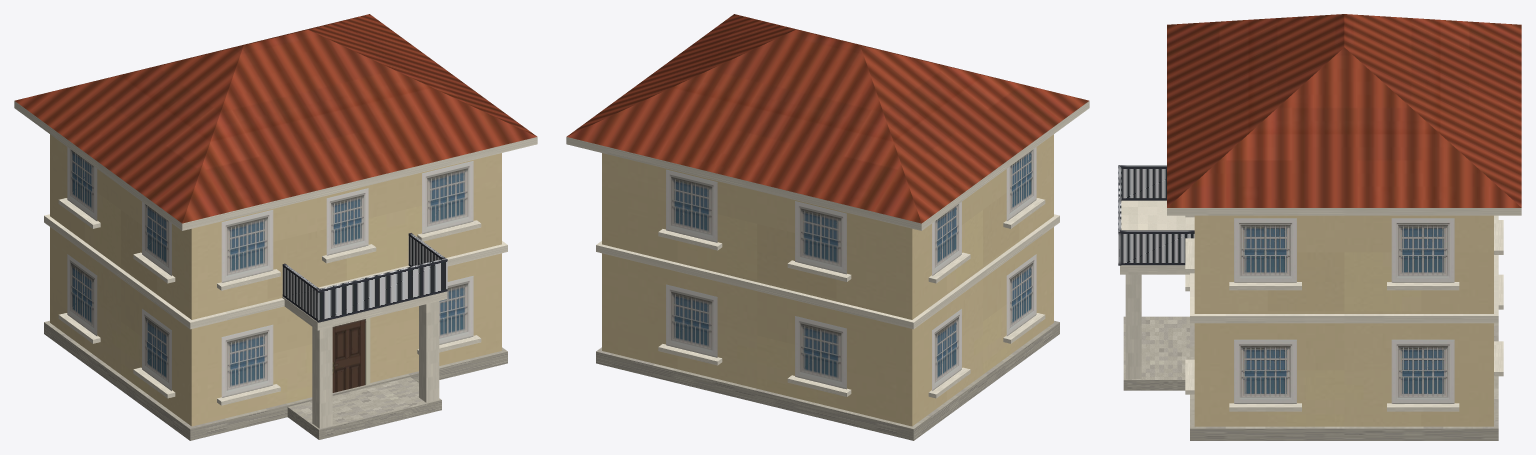
Rendered from house2-cream.glb.
3 views of the same model, side by side, from view 1: azimuth 30°, elevation 25°; view 2: azimuth 150°, elevation 25°; view 3: azimuth 270°, elevation 25° (orthographic). The views are drawn at different scales.
Visible parts, largest first — view 1: house2-cream; view 2: house2-cream; view 3: house2-cream.
Boxes of the visible parts, x1,y1,x2,y2 form: house2-cream: (14,14,537,440); house2-cream: (566,14,1089,440); house2-cream: (1118,14,1521,440).
Size of the model in its own units: 11 by 9.2 by 10.24.
Materials: 1 (1 with a texture image).
